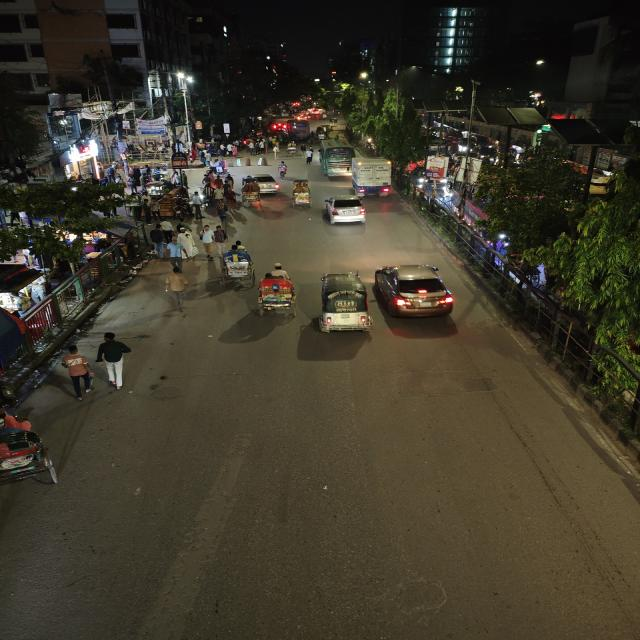bicycle: (276, 159, 290, 179)
bus: (318, 143, 356, 179)
car: (371, 260, 460, 322), (321, 195, 369, 228), (249, 172, 281, 194)
cng: (316, 268, 374, 336)
pedestrian: (54, 349, 99, 402), (95, 330, 134, 390), (159, 270, 192, 310), (197, 224, 219, 262), (165, 238, 188, 272), (148, 222, 169, 256), (179, 227, 198, 259), (215, 201, 231, 224), (212, 225, 228, 247), (303, 148, 314, 165)
rickshaw: (0, 404, 66, 497), (252, 262, 302, 318), (218, 241, 254, 289), (289, 177, 313, 209), (240, 179, 263, 210)
truck: (350, 157, 395, 197)
